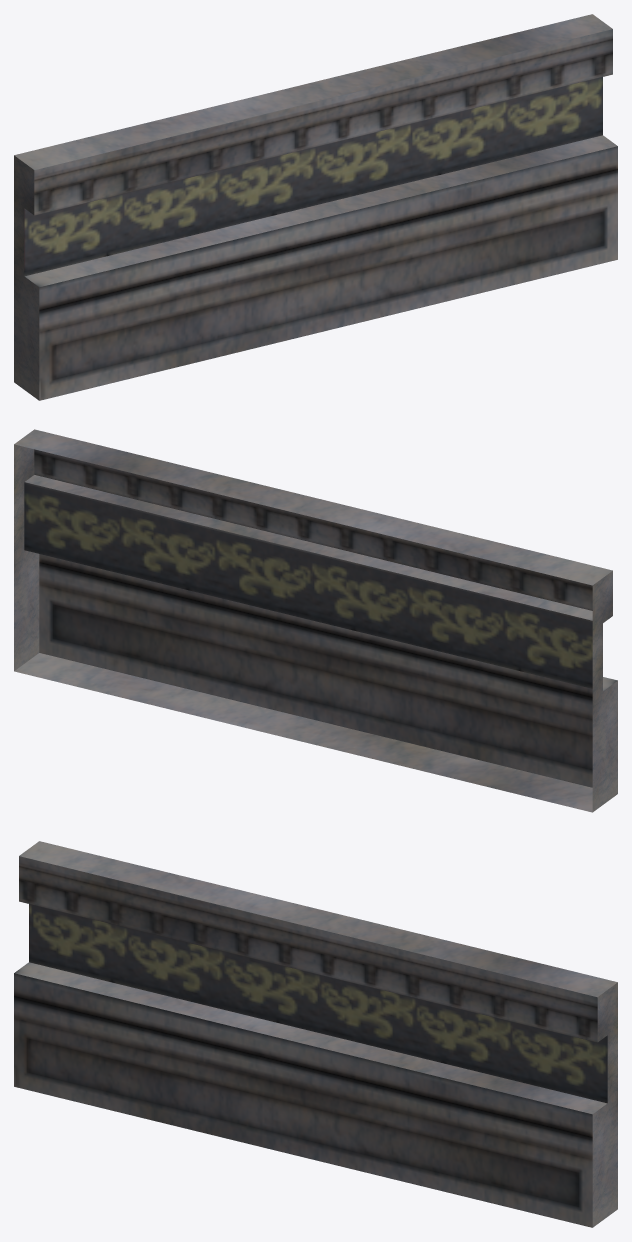
Rendered from wall_trim_01.fbx.
The picture shows the model from 3 angles, top to bottom: view 1: azimuth 30°, elevation 25°; view 2: azimuth 150°, elevation 25°; view 3: azimuth 330°, elevation 25°; orthographic projection.
Visible parts, largest first — view 1: wall_trim_01; view 2: wall_trim_01; view 3: wall_trim_01.
Boxes of the visible parts, <box> form: wall_trim_01: <box>14,14,617,400</box>; wall_trim_01: <box>14,429,617,812</box>; wall_trim_01: <box>14,841,617,1227</box>.
Bounding box in the file's own units: 800 × 300 × 60.82.
